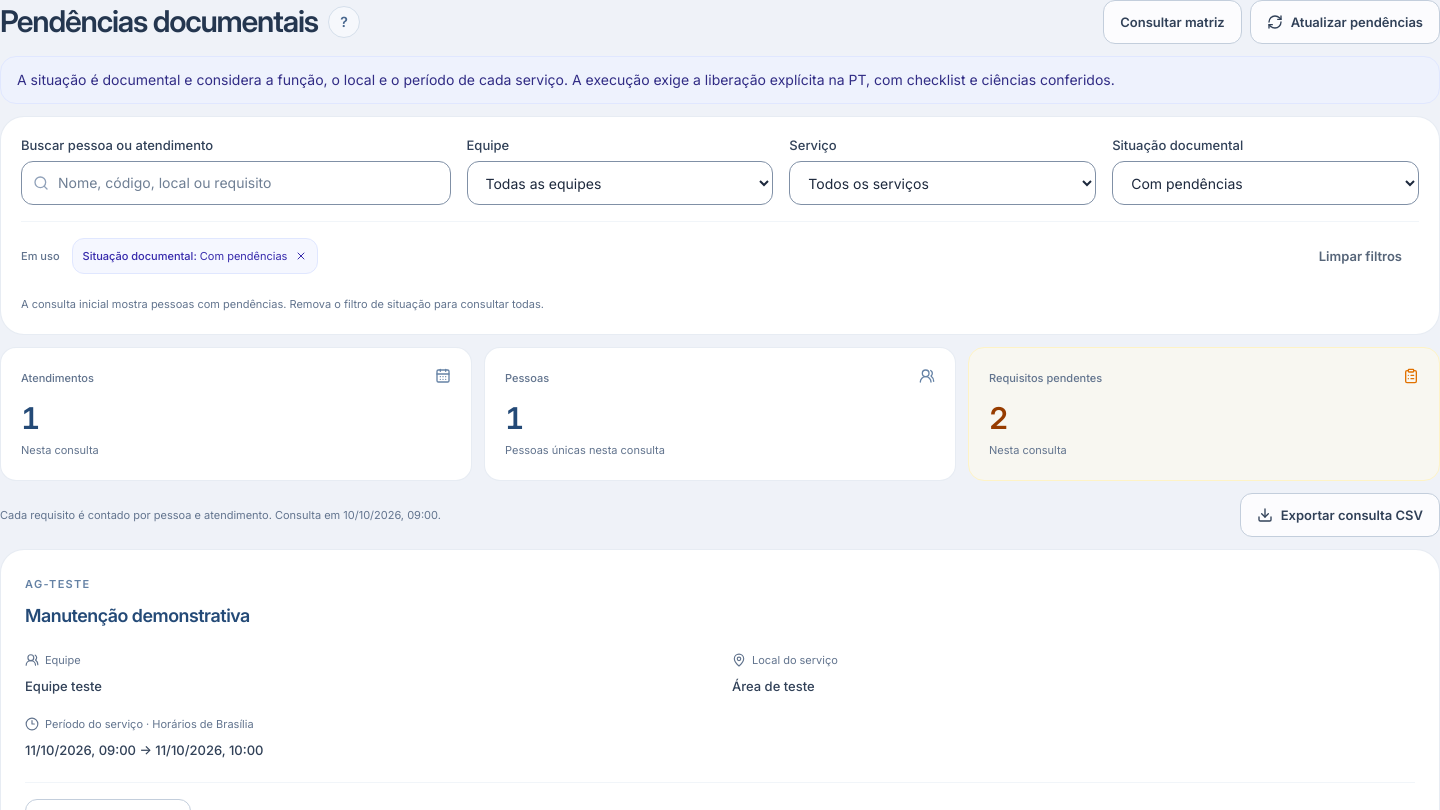
Test case: painel de pendências documentais › consulta escopo, permite filtrar pessoas e vincula a conferência correta
Select "Conferida" in the dropdown labelled "Situação documental" at (1266, 183), box 1112,161 -> 1419,205
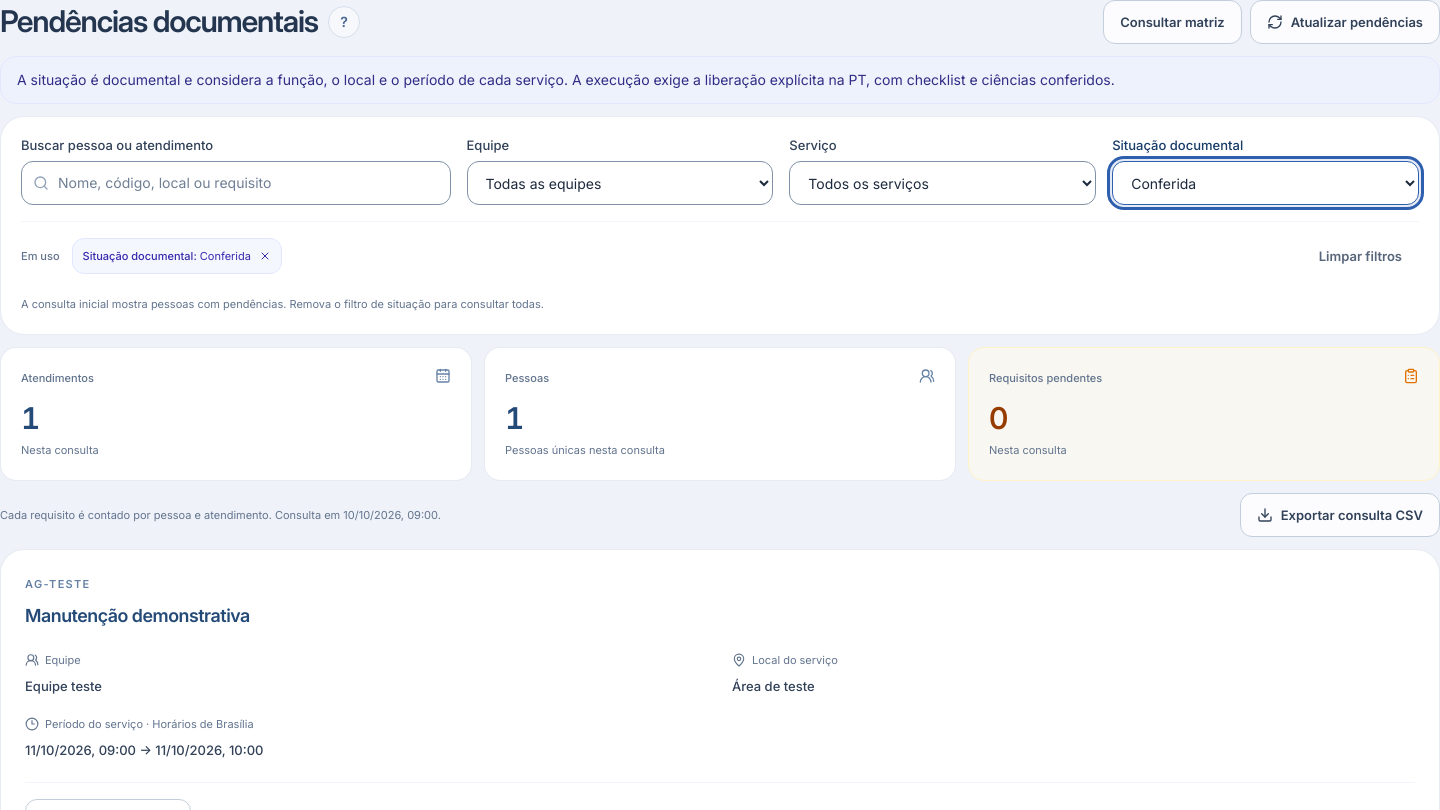
Expected: the heading "Bruno Teste" is not shown
Type "Inexistente" into the search field.
click(236, 183); type("Inexistente")  # box 21,161 -> 450,205
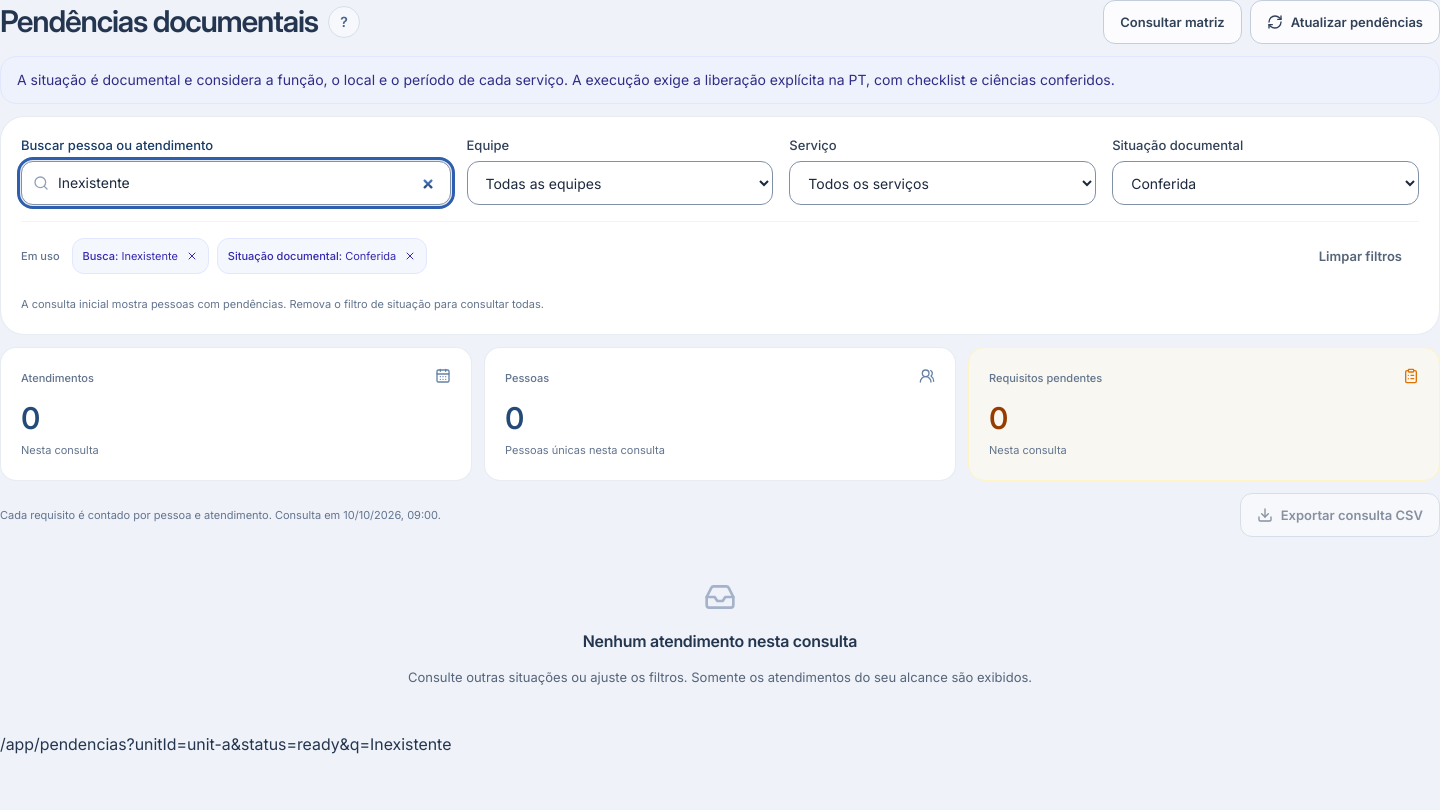
Now the button "Exportar consulta CSV" is disabled, box 1240,493 -> 1439,537
Click the button "Limpar filtros".
click(1360, 256)  # box 1302,234 -> 1419,278
(page scrolled)
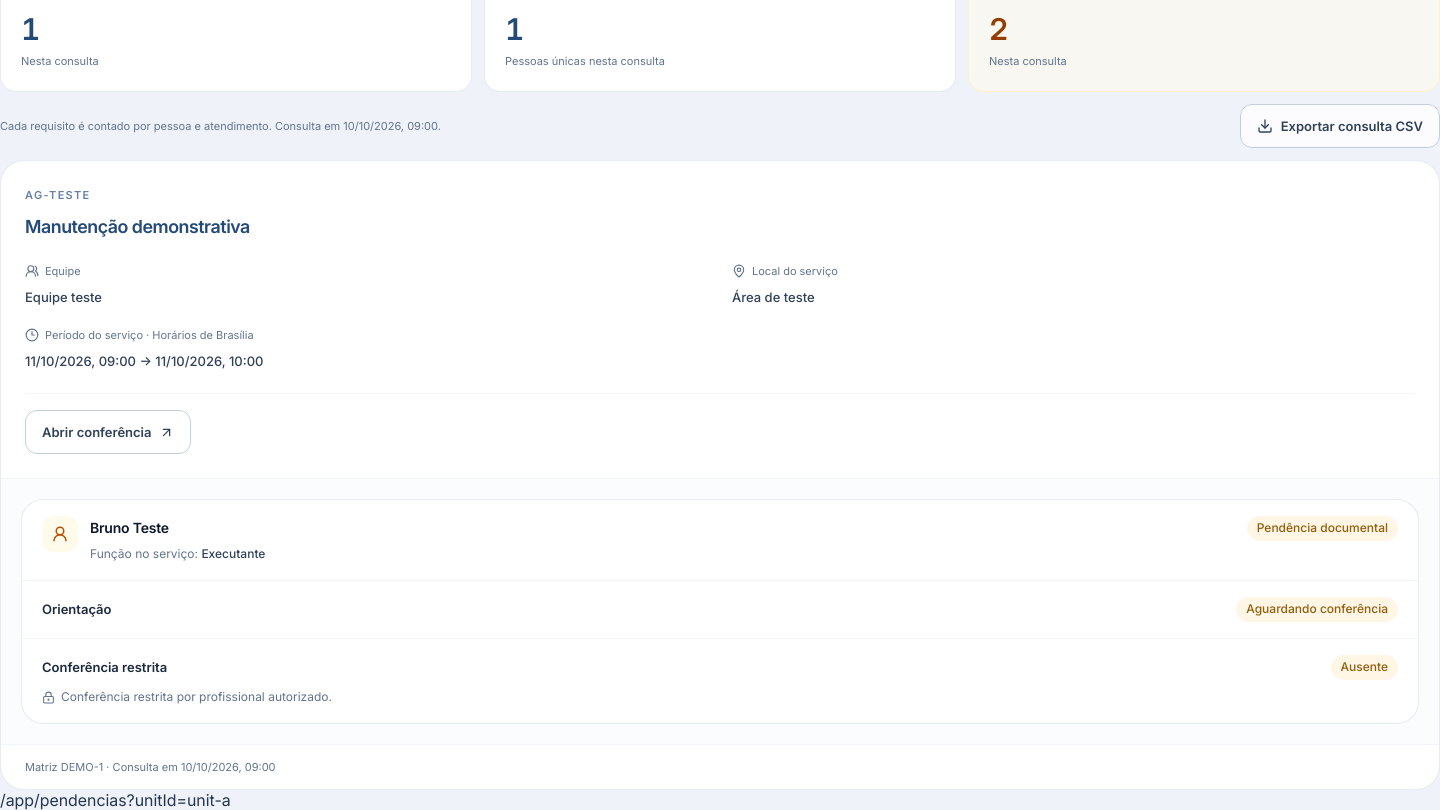
Now the heading "Bruno Teste" is shown, box 90,519 -> 169,536
